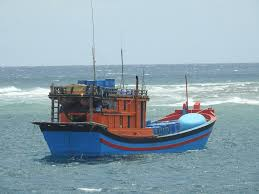tau_dansu: (36, 78, 215, 151)
